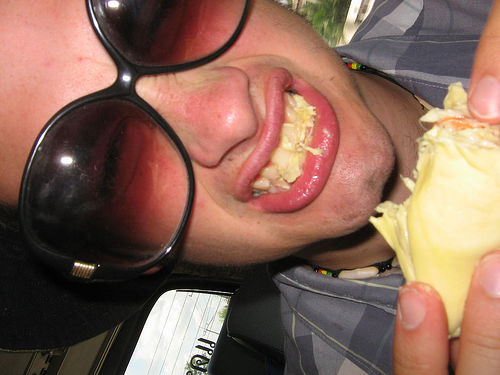jackfruit: (370, 81, 499, 339)
